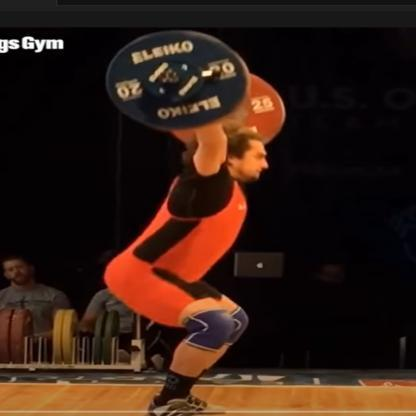barbell: (106, 30, 287, 145)
